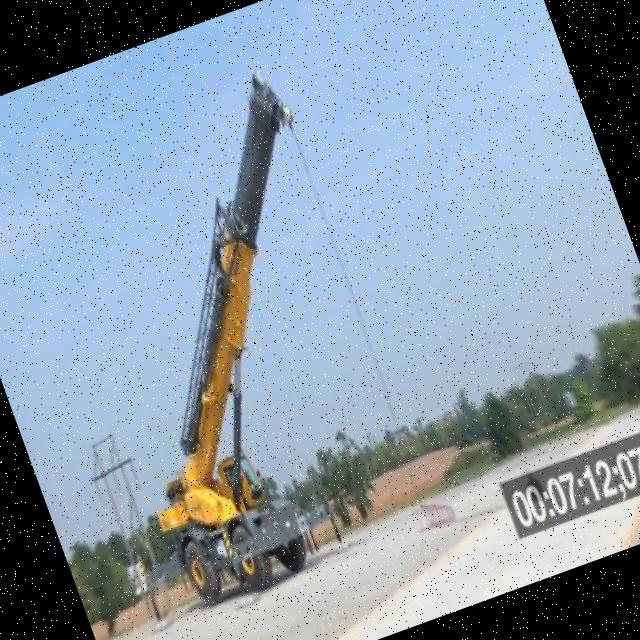Mobile Crane: (24, 64, 437, 609)
